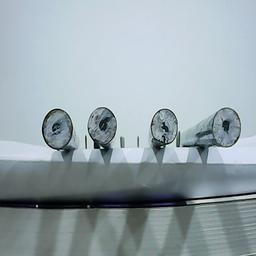pen: (40, 107, 73, 149), (210, 106, 242, 148), (85, 104, 117, 144), (147, 105, 179, 145)
